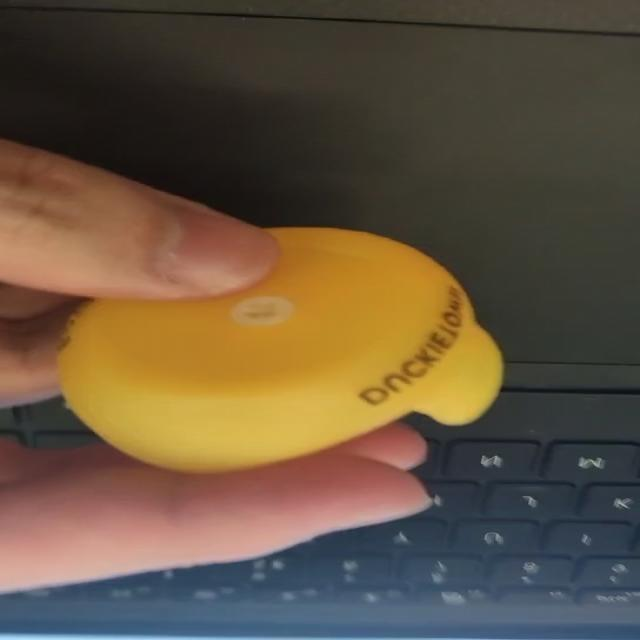rubber-duck: (58, 227, 501, 469)
